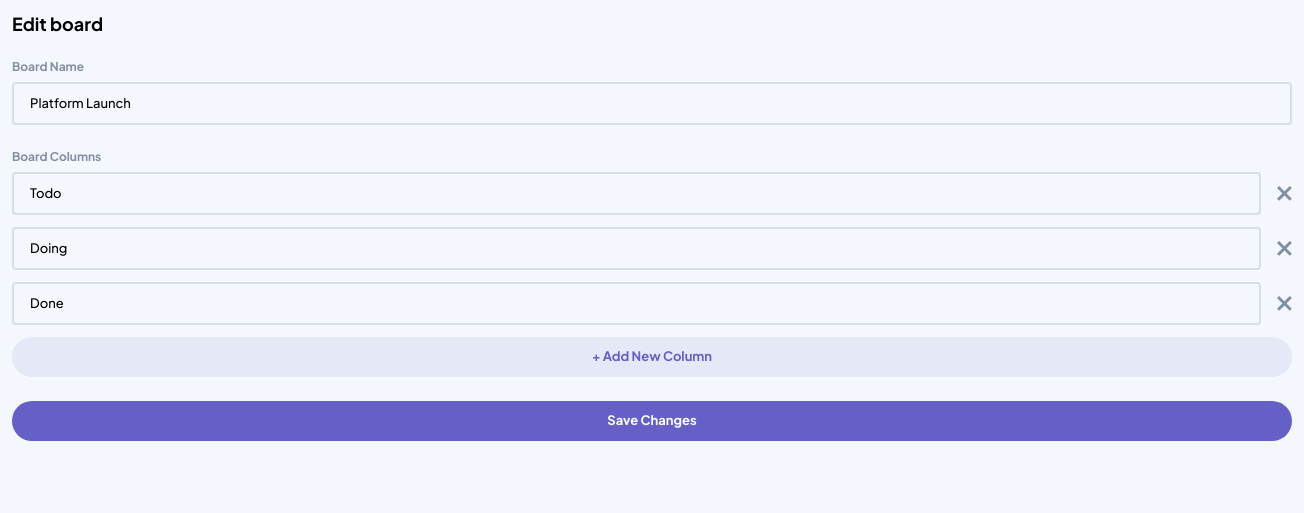
Test: Given an <EditBoardForm /> component › When button '+ Add new column' is clicked › It should add a new column input and alert 'Can't be empty'
What coordinates should you click on to do the following:
click the button "+ Add new column"
I would click on:
 (652, 357)
Its box is [12,337,1292,377].
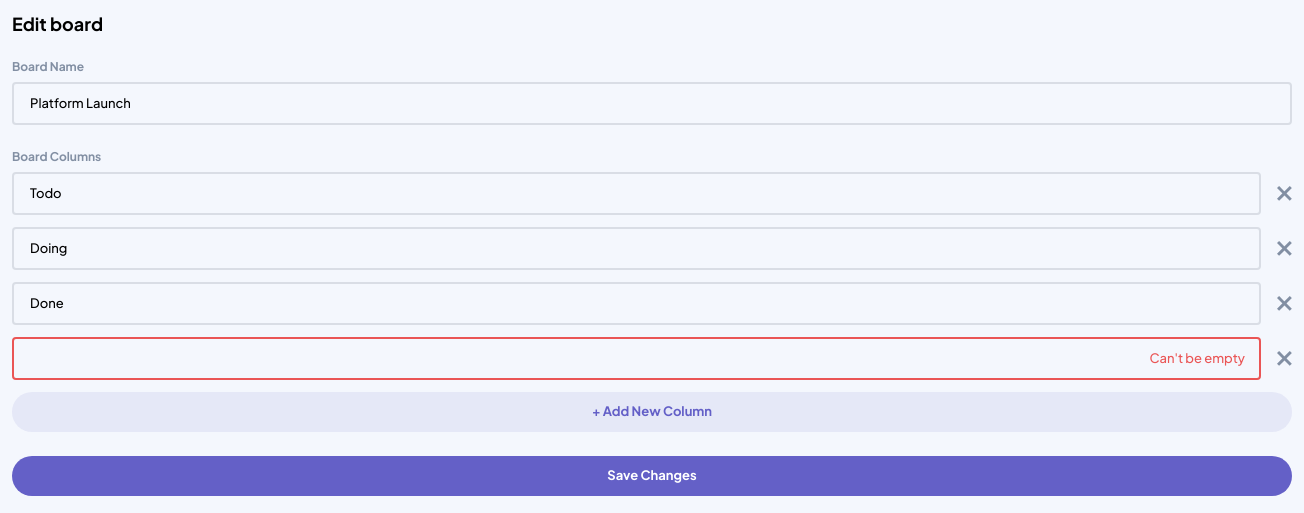
Now the field named "column" next to "Can't be empty" is empty, box [12,337,1261,380]
Now the message "Can't be empty" is shown, box [1149,349,1245,368]
